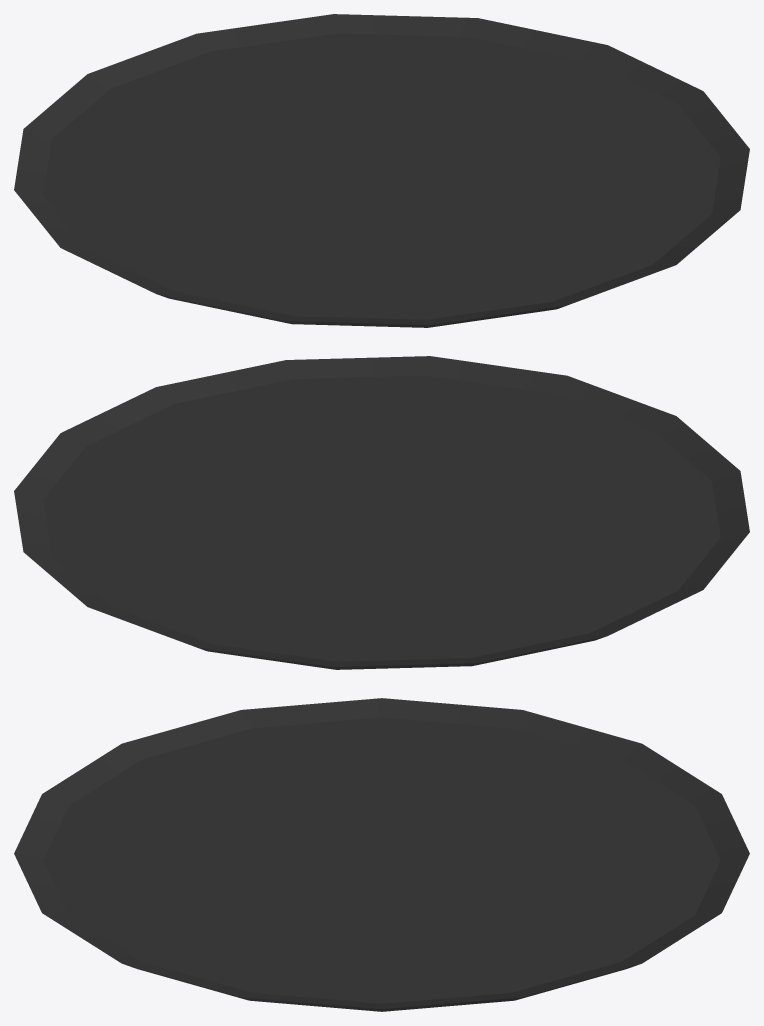
Rendered from p6_bar_drink_tray_lod1.glb.
The picture shows the model from 3 angles, top to bottom: view 1: azimuth 30°, elevation 25°; view 2: azimuth 150°, elevation 25°; view 3: azimuth 270°, elevation 25°; orthographic projection.
Visible parts, largest first — view 1: surf0, surf1; view 2: surf0, surf1; view 3: surf0, surf1.
Boxes of the visible parts, box(x1,y1,x2,y2) form: surf0: box(43, 33, 720, 319); surf1: box(14, 14, 749, 327); surf0: box(43, 375, 720, 661); surf1: box(14, 356, 749, 669); surf0: box(43, 717, 720, 1003); surf1: box(14, 698, 749, 1011).
Size of the model in its own units: 16.99 by 0.2996 by 16.99.
